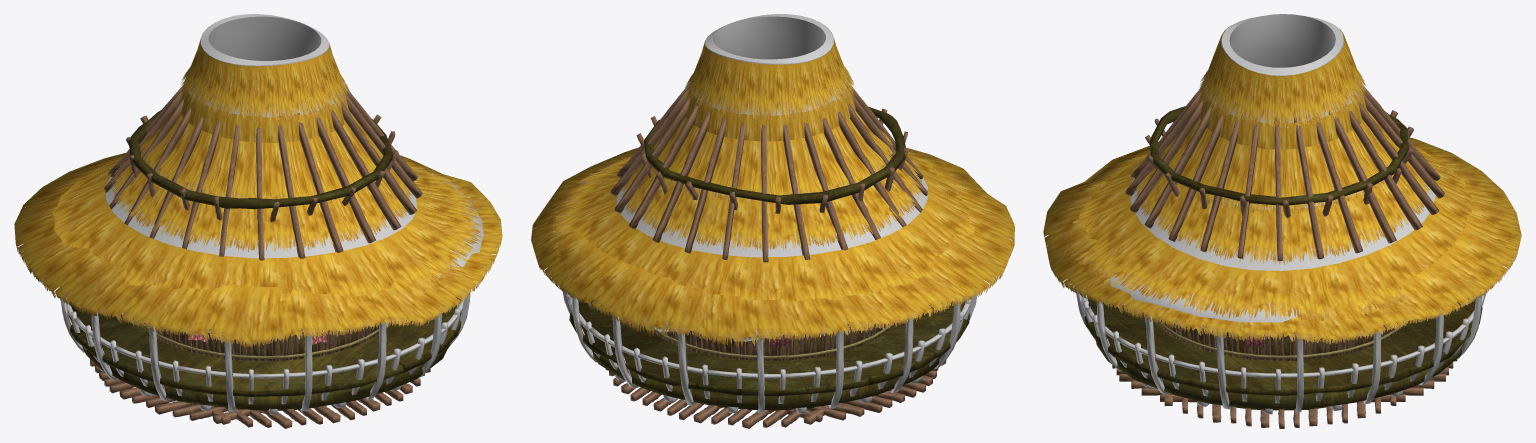
File: SM_hut_01.fbx
3 views of the same model, side by side, from view 1: azimuth 30°, elevation 25°; view 2: azimuth 150°, elevation 25°; view 3: azimuth 270°, elevation 25° (orthographic).
Parts seen in each view (by area): view 1: hut_01; view 2: hut_01; view 3: hut_01.
Boxes of the visible parts, <box> form: hut_01: <box>14,14,502,428</box>; hut_01: <box>531,14,1014,428</box>; hut_01: <box>1043,14,1521,428</box>.
Size of the model in its own units: 2710 by 1952 by 2671.
